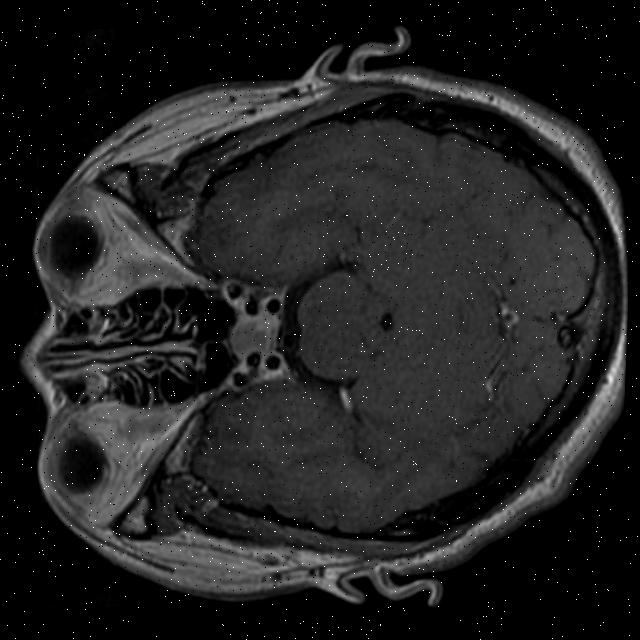Pituitary: (227, 309, 281, 360)
